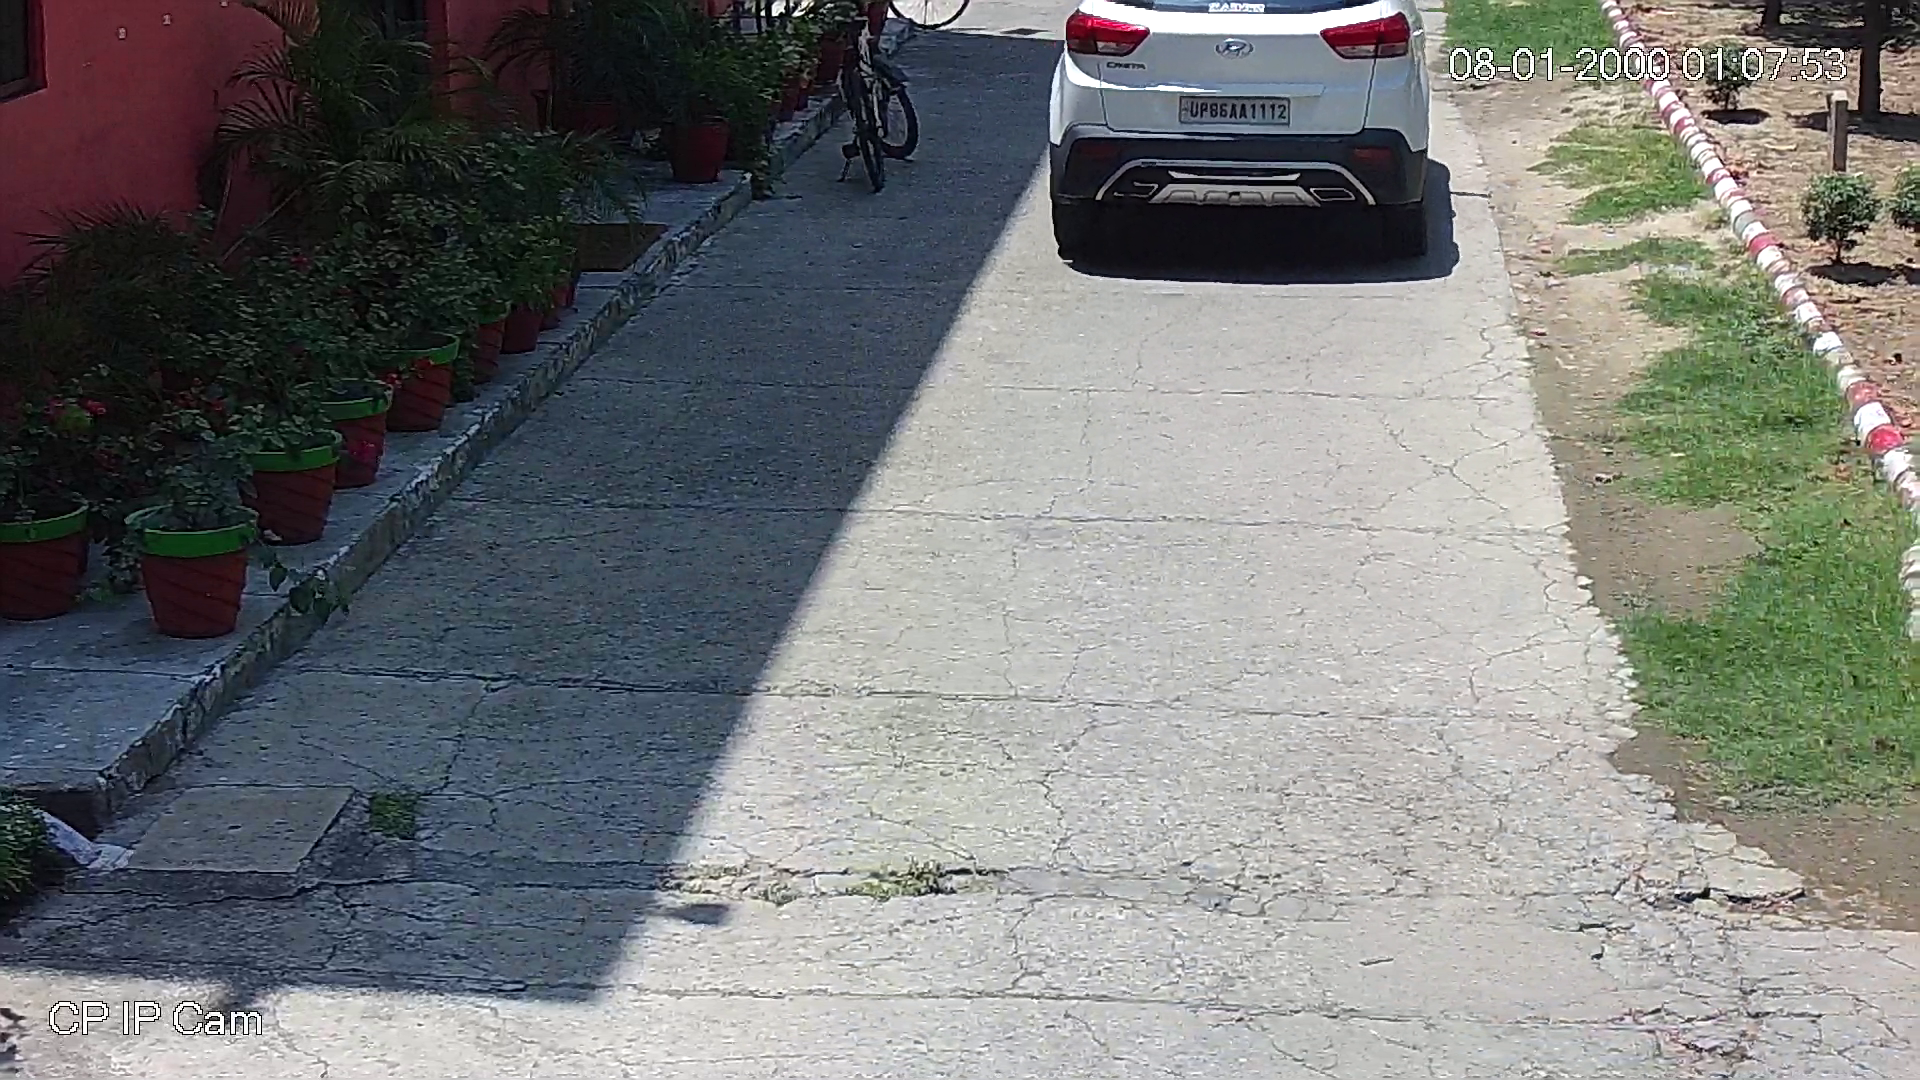plate: (1172, 90, 1301, 124)
